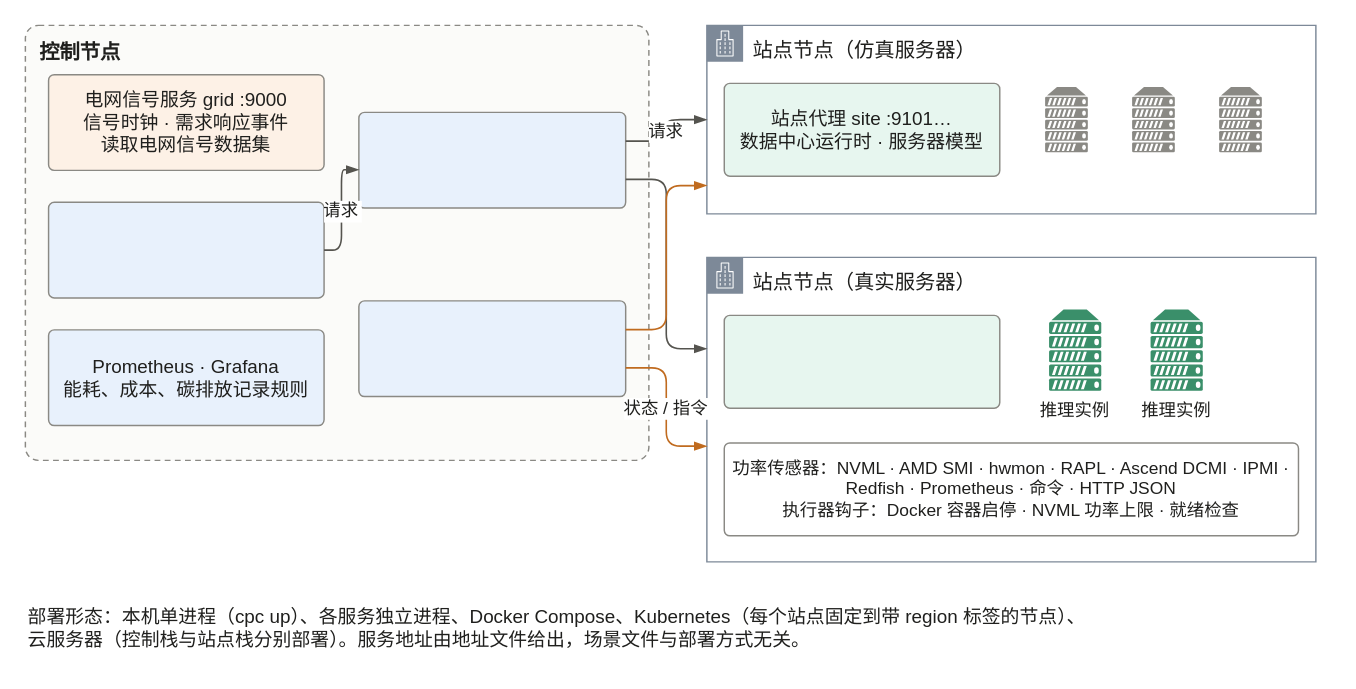
Image size: 1356x689. Some labels were removed from this diagram. Each missing label, with the centre of its shape:
"控制器 controller :9300 采集 → 决策 → 下发" goes at point (491, 348).
"站点代理 site 执行器钩子 · 传感器采样" goes at point (861, 361).
"网关 gateway :8080 路由 · 重试 · 广域网时延注入" goes at point (491, 159).
"负载生成器 loadgen 读取负载数据集，按 trace 回放" goes at point (185, 249).
